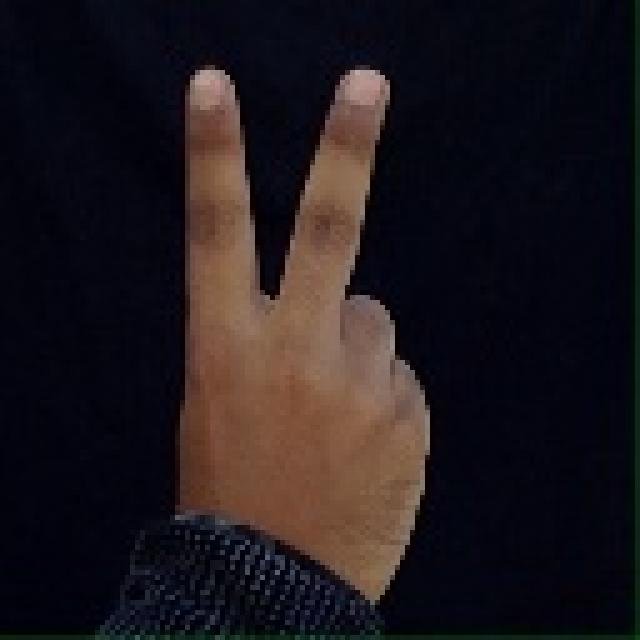Alphabet-V: (118, 54, 433, 626)
